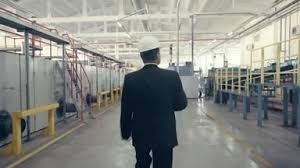helmet: (136, 34, 165, 56)
person with partial safety: (118, 34, 190, 166)
